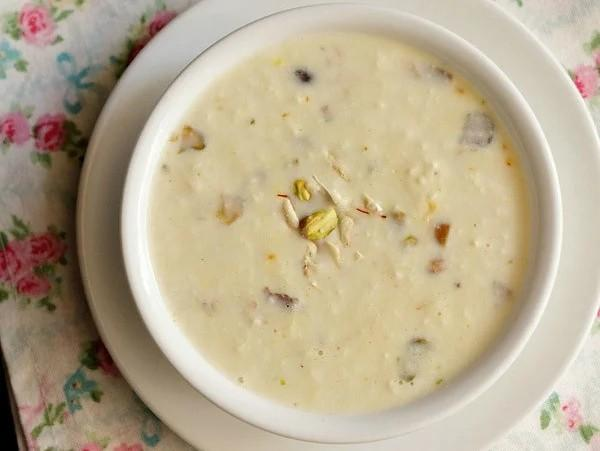Kheer: (146, 32, 536, 411)
